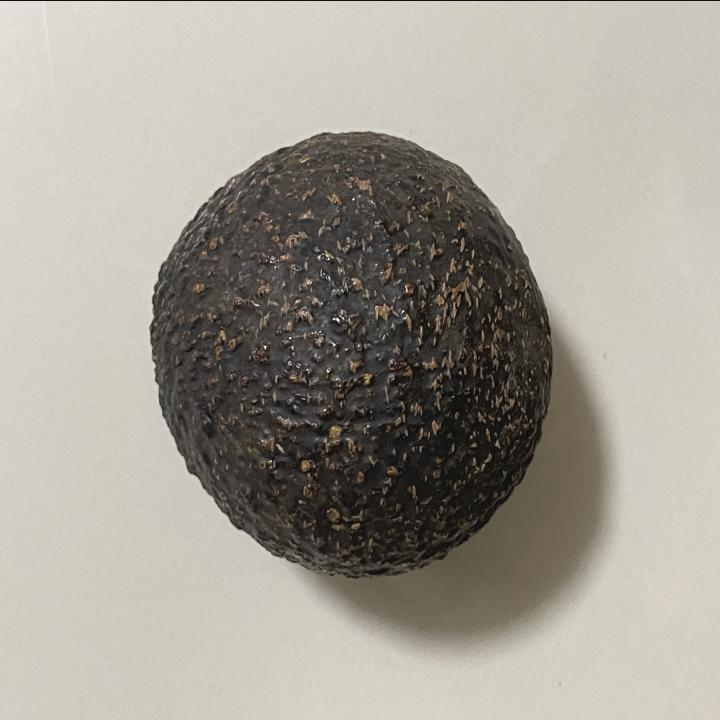Level2: (144, 125, 558, 584)
